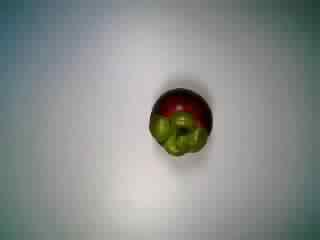mangosteen: (136, 79, 217, 164)
